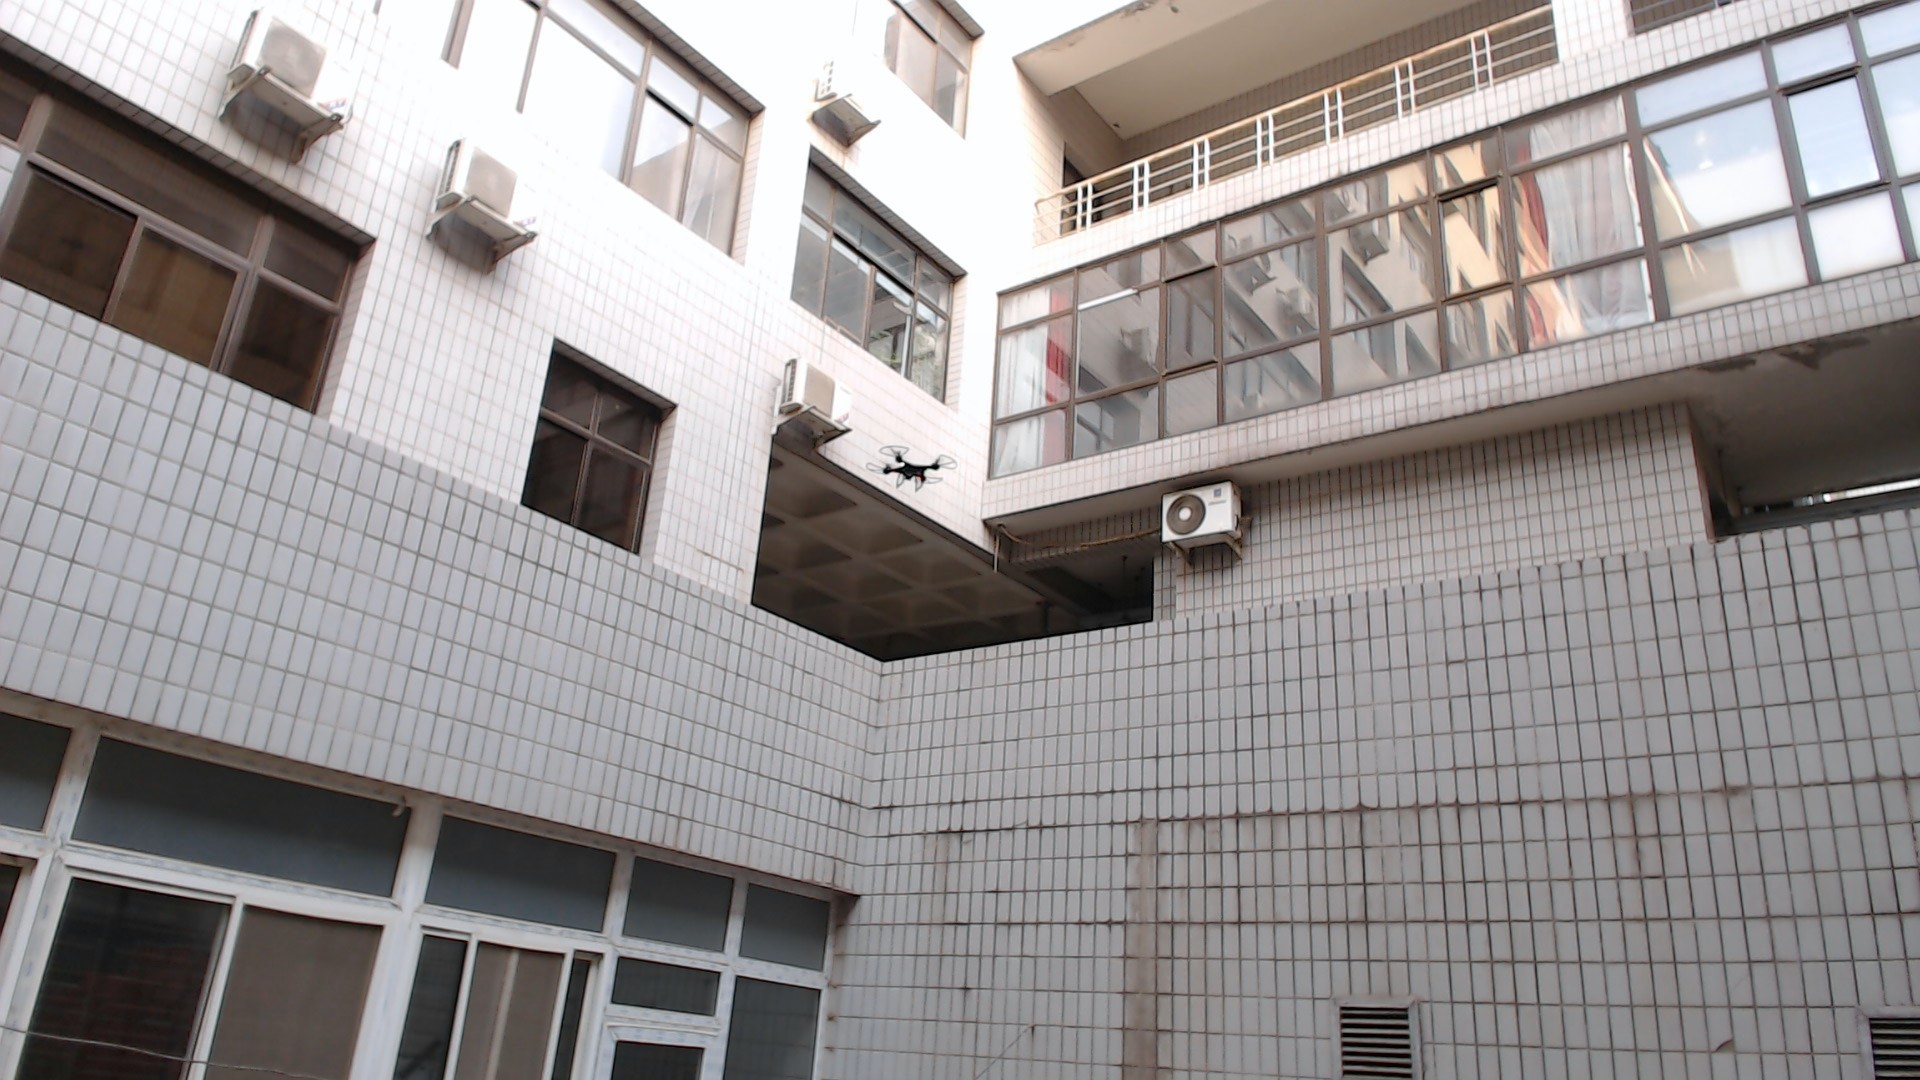drone: (849, 415, 978, 512)
